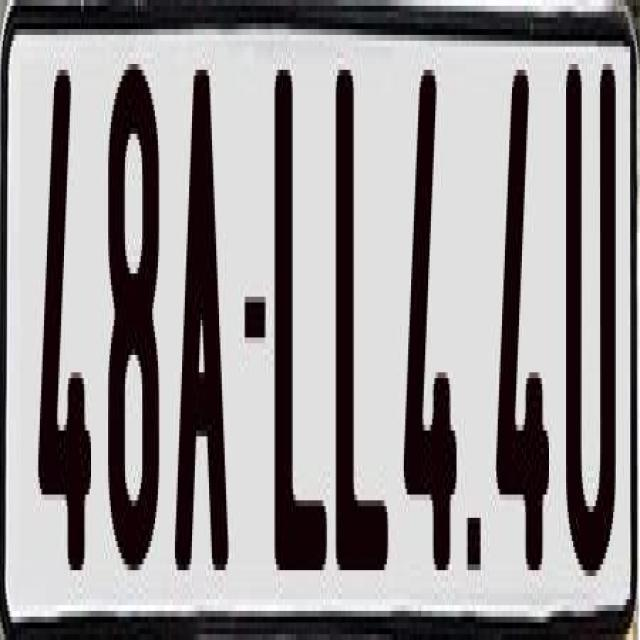4: (404, 52, 464, 588), (495, 58, 552, 570), (36, 64, 91, 582)
8: (107, 46, 158, 576)
A: (174, 52, 228, 570)
L: (336, 64, 396, 582), (270, 58, 326, 582)
U: (563, 46, 619, 576)
